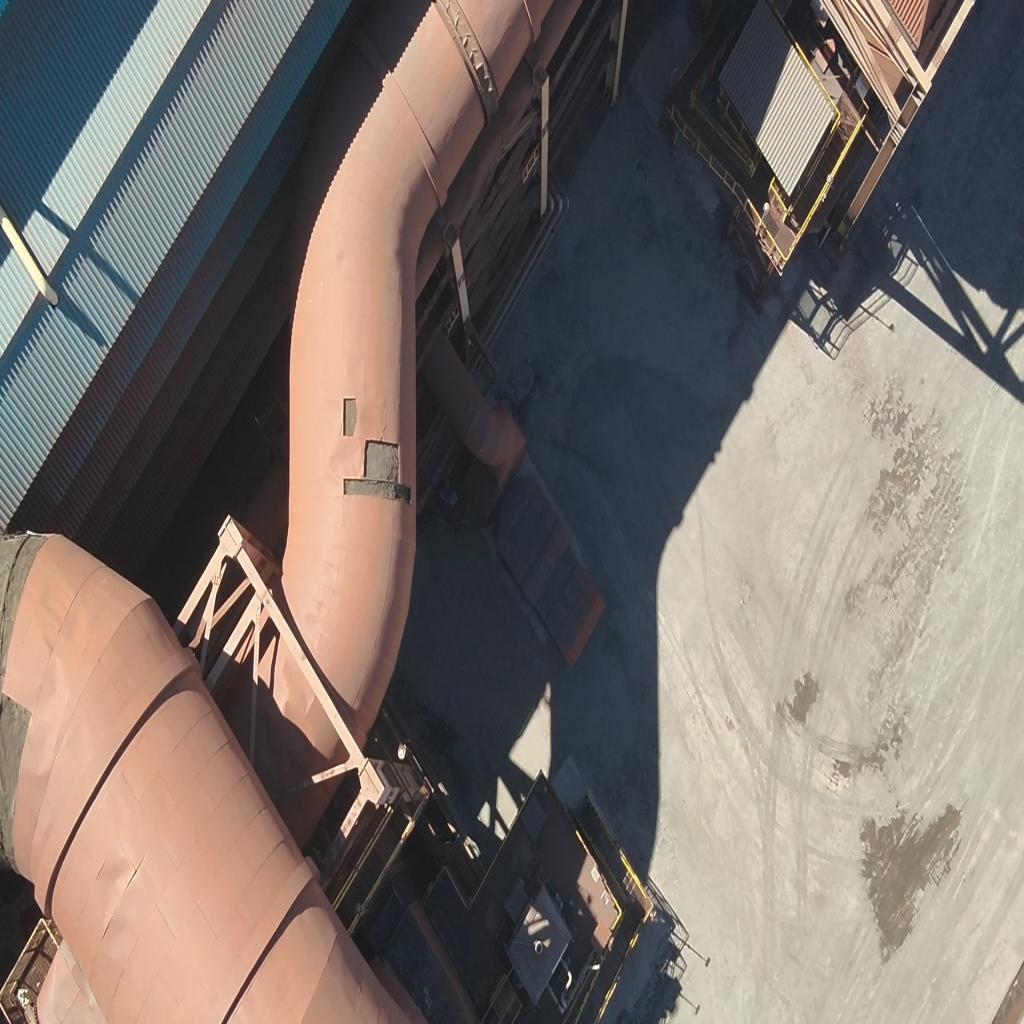Failures: (346, 433, 412, 504), (339, 395, 359, 443)
